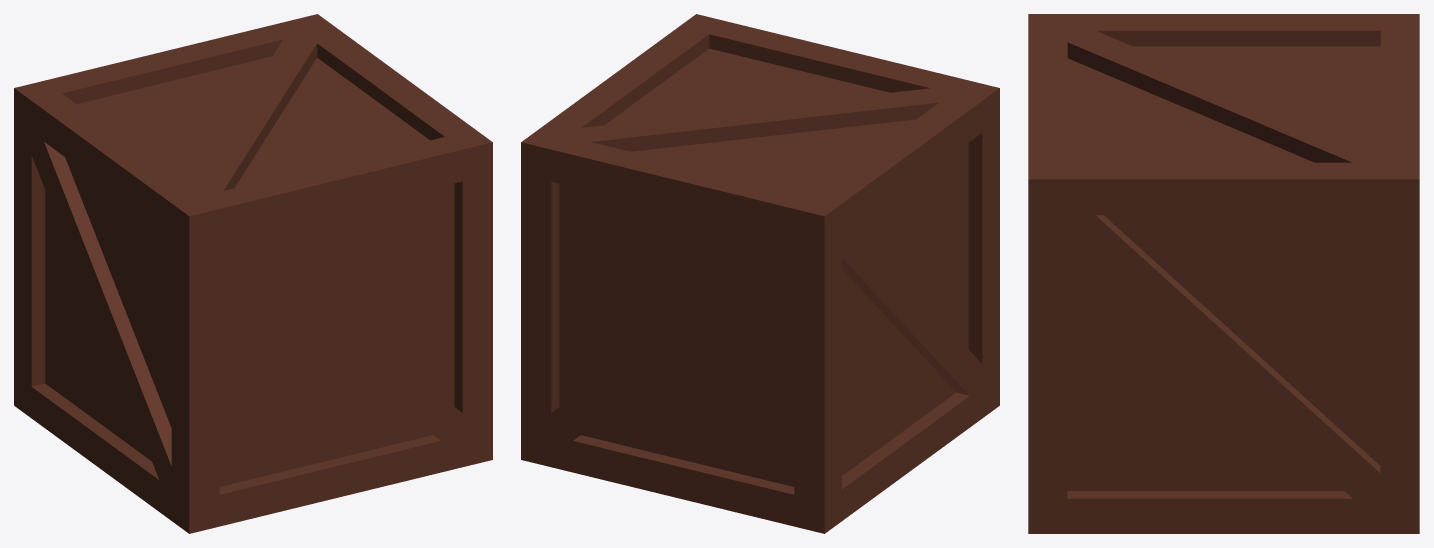
3 views of the same model, side by side, from view 1: azimuth 30°, elevation 25°; view 2: azimuth 150°, elevation 25°; view 3: azimuth 270°, elevation 25° (orthographic). The views are drawn at different scales.
Visible parts, largest first — view 1: Cube; view 2: Cube; view 3: Cube.
Part boxes in pixels (x1,y1,x2,y2): Cube: (14, 14, 492, 533); Cube: (521, 14, 999, 533); Cube: (1028, 14, 1419, 533).
Size of the model in its own units: 100 by 100 by 100.
